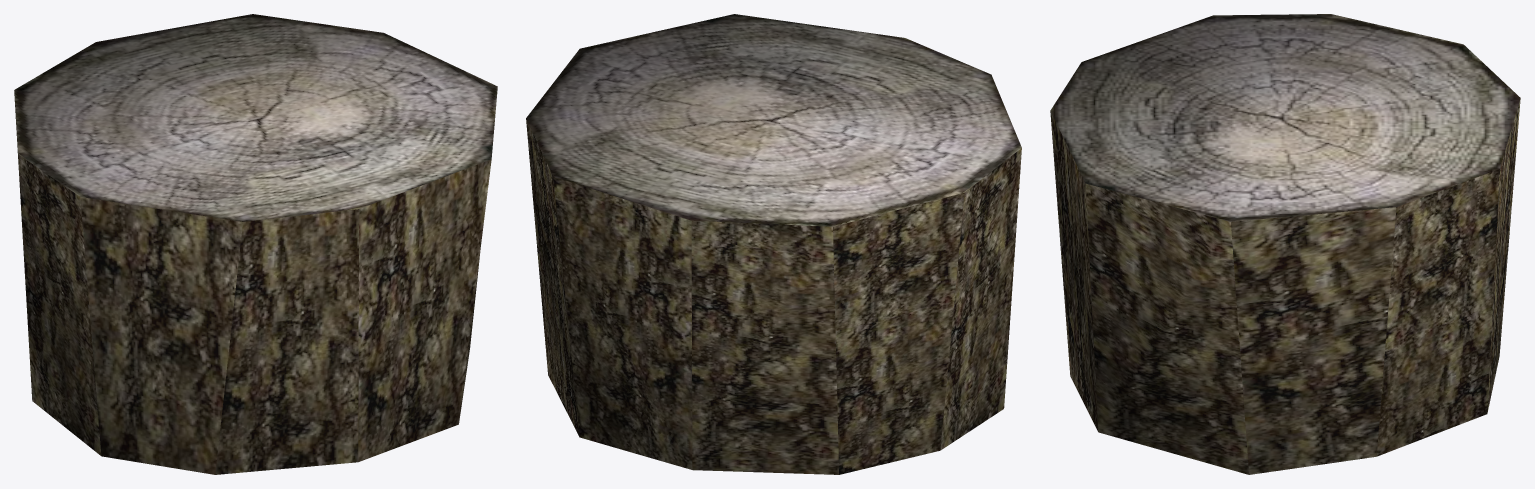
File: NC_LOB_TABLE2.glb
3 views of the same model, side by side, from view 1: azimuth 30°, elevation 25°; view 2: azimuth 150°, elevation 25°; view 3: azimuth 270°, elevation 25° (orthographic). The views are drawn at different scales.
Parts seen in each view (by area): view 1: Mesh; view 2: Mesh; view 3: Mesh.
Boxes of the visible parts, x1,y1,x2,y2 form: Mesh: (14,14,497,474); Mesh: (526,14,1021,474); Mesh: (1050,14,1520,474).
Bounding box in the file's own units: 1.48 × 0.8718 × 1.42.
2 materials, 2 textured.
